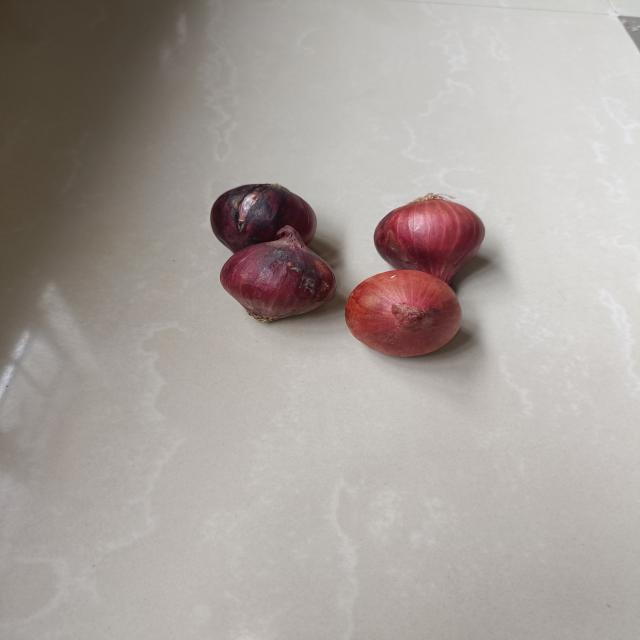onion: (213, 224, 341, 326), (340, 267, 469, 361), (368, 192, 490, 284), (206, 179, 322, 259)
